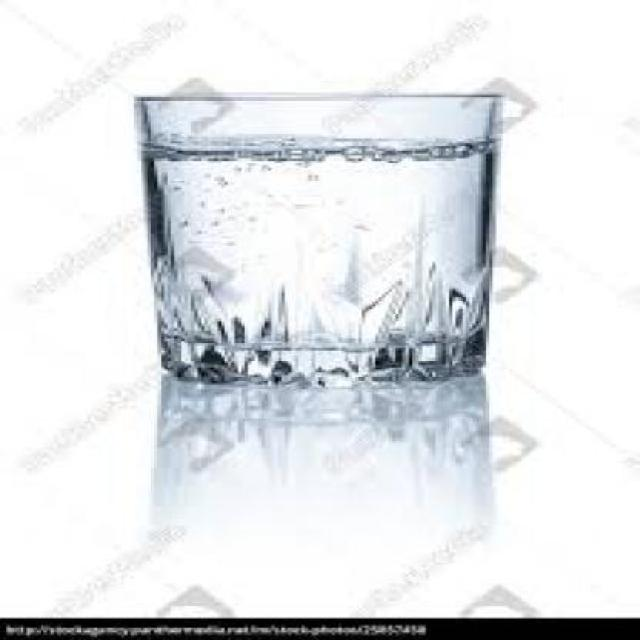kaca: (134, 96, 495, 384)
